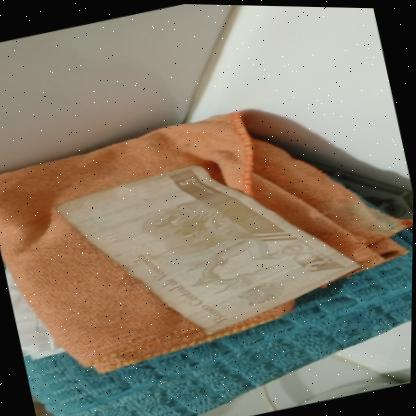vef_back: (50, 128, 372, 364)
